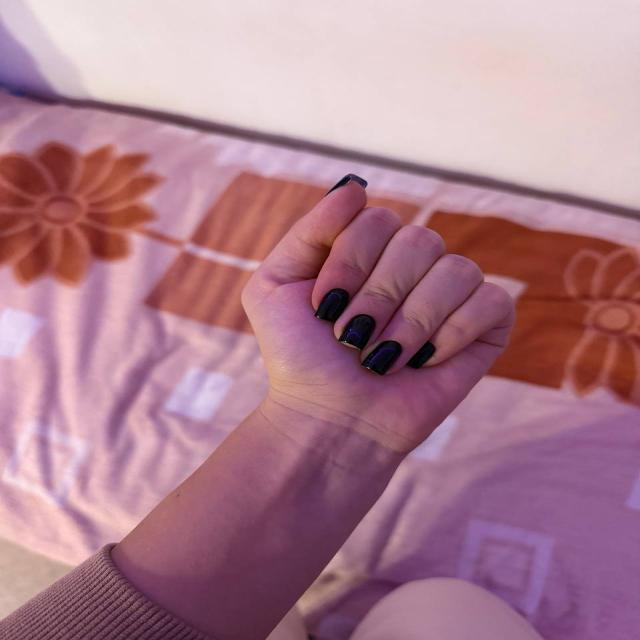a: (229, 168, 533, 435)
